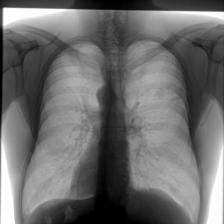tuberculosis: (19, 34, 207, 224)
